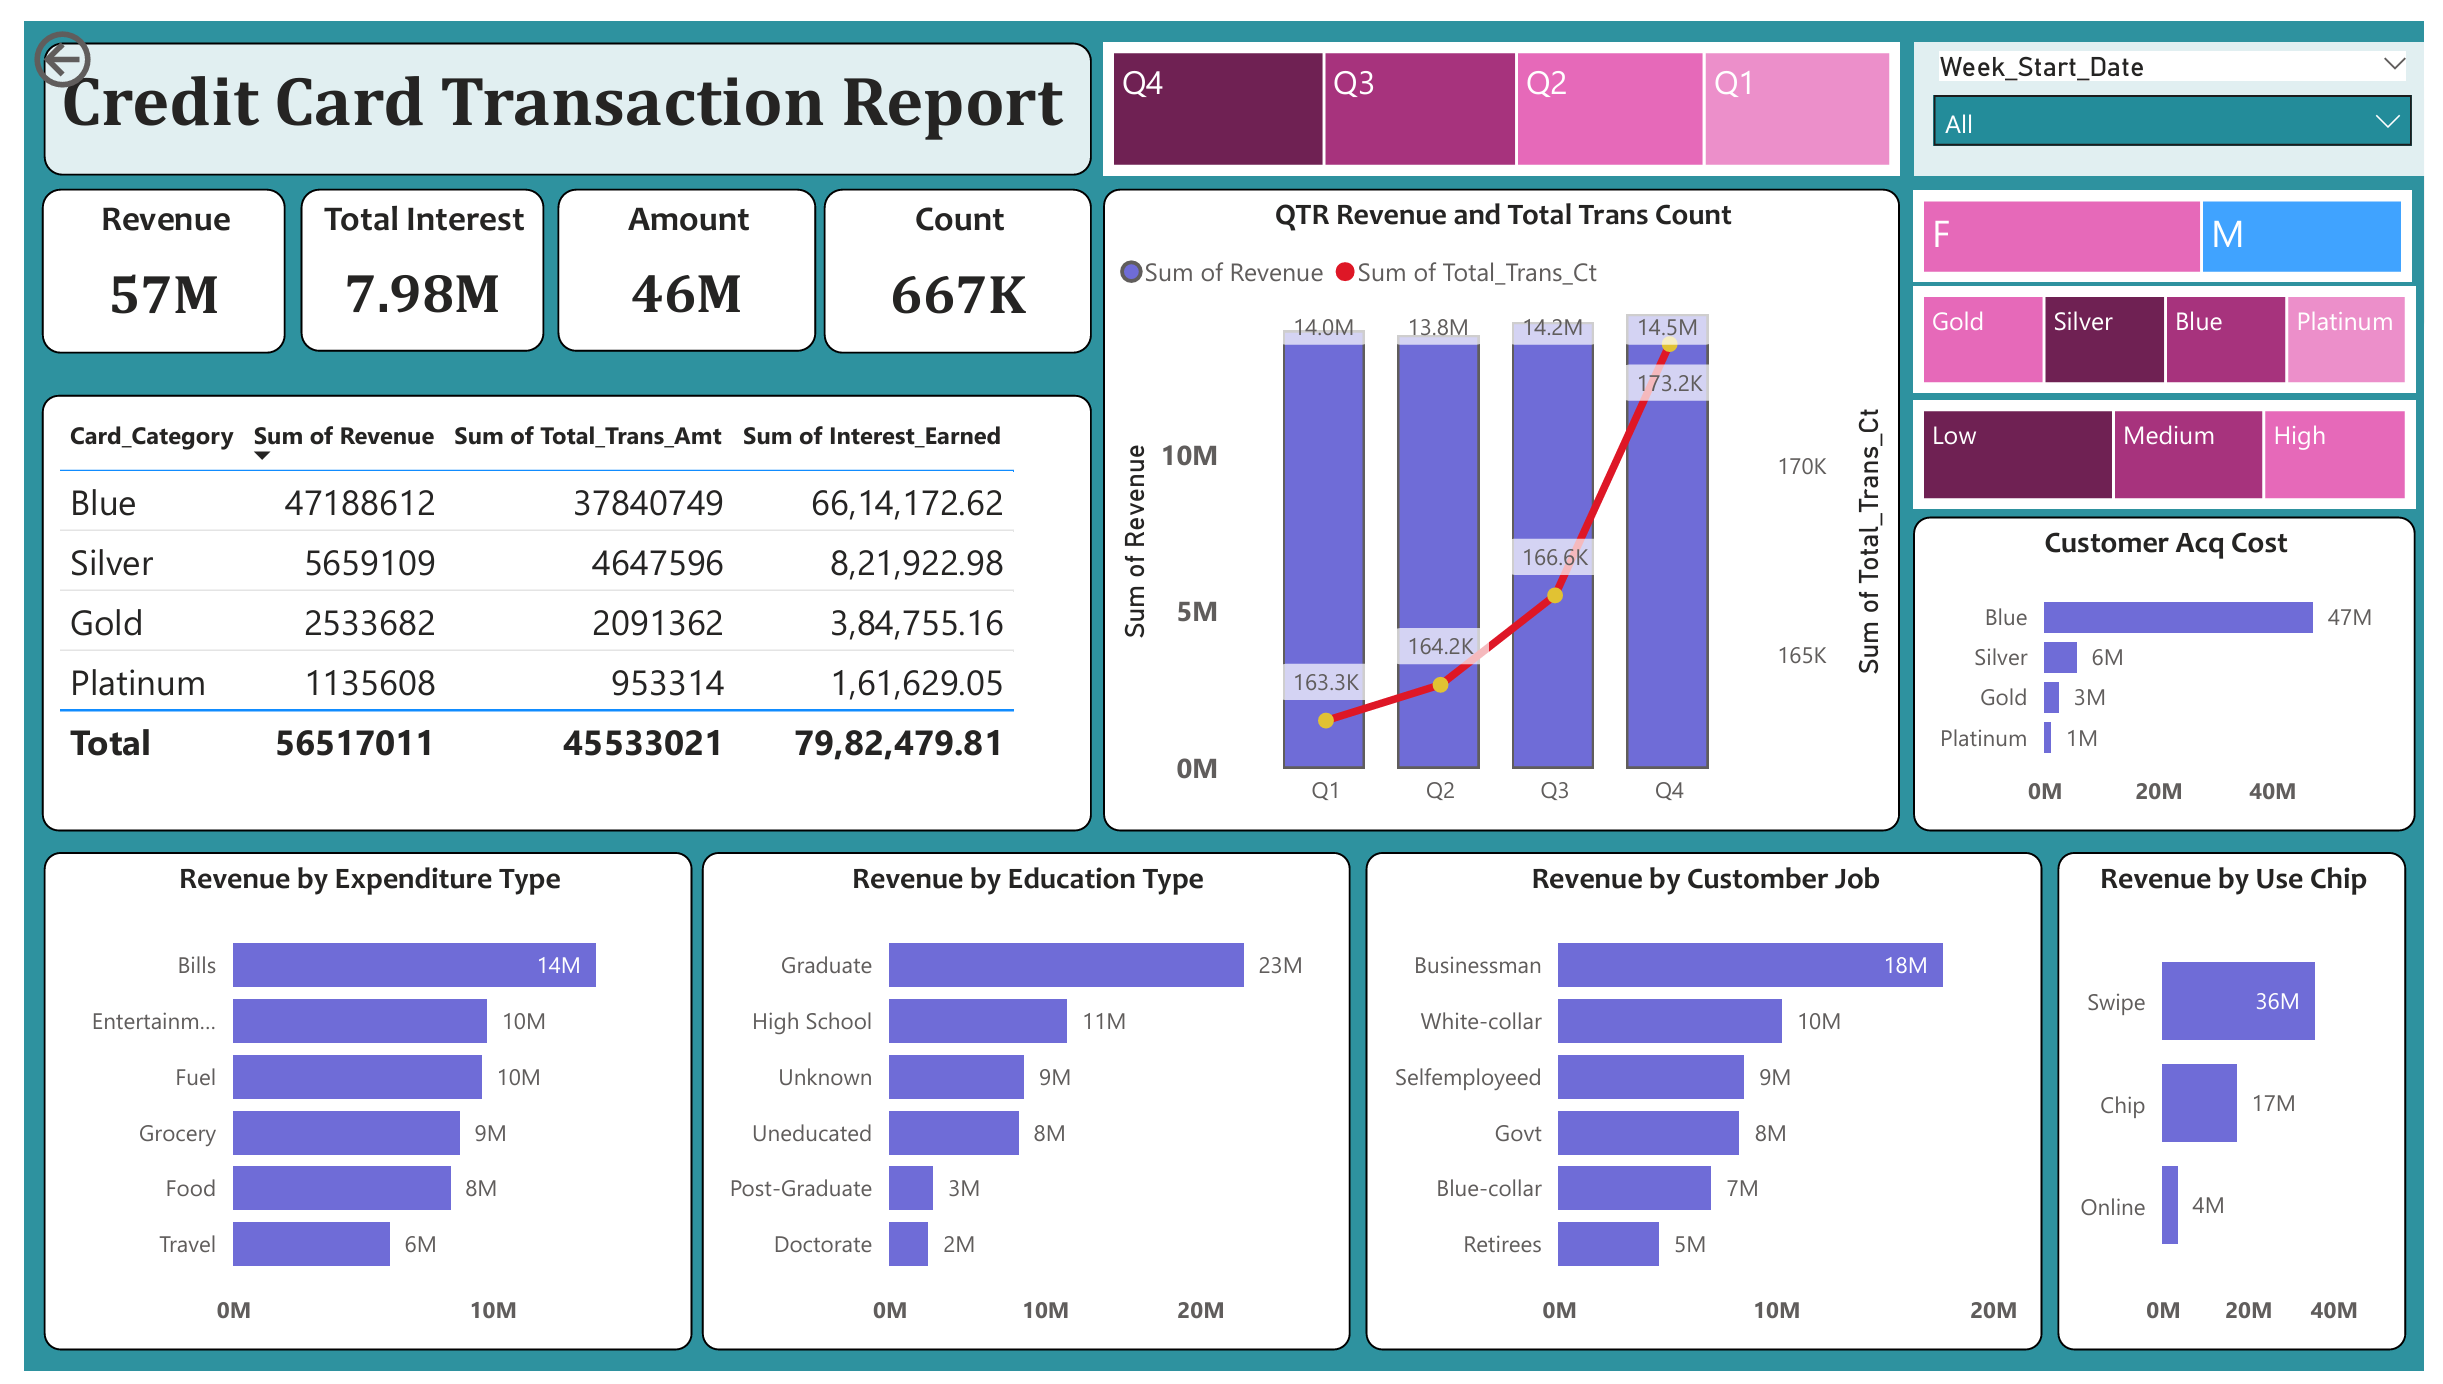

The dashboard page shown, as its layout file describes it:
{"tool":"powerbi","page":{"name":"CC Transaction ","canvas":[1280,720],"ordinal":1},"visuals":[{"type":"textbox","box":[9.5,10.9,559.8,70.7],"z":0},{"type":"lineStackedColumnComboChart","title":"QTR Revenue and Total Trans Count","fields":{"Category":["ccdb cc_detail.Qtr"],"Y":["Sum(ccdb cc_detail.Revenue)"],"Y2":["Sum(ccdb cc_detail.Total_Trans_Ct)"]},"box":[575,89.2,424.5,342.9],"z":1000},{"type":"clusteredBarChart","title":"Revenue by Expenditure Type","fields":{"Y":["Sum(ccdb cc_detail.Revenue)"],"Category":["ccdb cc_detail.Exp_Type"]},"box":[9.5,443,346.5,266.3],"z":2000},{"type":"clusteredBarChart","title":"Revenue by Education Type","fields":{"Y":["Sum(ccdb cc_detail.Revenue)"],"Category":["ccdb cust_detail.Education_Level"]},"box":[361.4,443,345.1,266.3],"z":3000},{"type":"clusteredBarChart","title":"Revenue by Customber Job","fields":{"Y":["Sum(ccdb cc_detail.Revenue)"],"Category":["ccdb cust_detail.Customer_Job"]},"box":[714.7,443,361.4,266.3],"z":4000},{"type":"tableEx","fields":{"Values":["ccdb cc_detail.Card_Category","Sum(ccdb cc_detail.Revenue)","Sum(ccdb cc_detail.Total_Trans_Amt)","Sum(ccdb cc_detail.Interest_Earned)"]},"box":[8.9,198.9,559.7,233.3],"z":5000},{"type":"card","title":"Revenue","fields":{"Values":["Sum(ccdb cc_detail.Revenue)"]},"box":[8.9,89.2,130,88],"z":6000},{"type":"card","title":"Total Interest","fields":{"Values":["Sum(ccdb cc_detail.Interest_Earned)"]},"box":[146.6,89.2,130,86.7],"z":7000},{"type":"card","title":"Amount","fields":{"Values":["Sum(ccdb cc_detail.Total_Trans_Amt)"]},"box":[284.3,89.2,137.7,86.7],"z":8000},{"type":"card","title":"Count","fields":{"Values":["Sum(ccdb cc_detail.Total_Trans_Ct)"]},"box":[425.8,89.2,142.8,88],"z":9000},{"type":"actionButton","box":[0,0,100,40],"z":10000},{"type":"clusteredBarChart","title":"Revenue by Use Chip","fields":{"Y":["Sum(ccdb cc_detail.Revenue)"],"Category":["ccdb cc_detail.Use_Chip"]},"box":[1084.3,443,186.2,266.3],"z":11000},{"type":"slicer","fields":{"Values":["ccdb cc_detail.Week_Start_Date"]},"box":[1008.2,10.9,274.5,70.7],"z":12000},{"type":"clusteredBarChart","title":"Customer Acq Cost","fields":{"Y":["Sum(ccdb cc_detail.Revenue)"],"Category":["ccdb cc_detail.Card_Category"]},"box":[1006.9,263.6,267.7,168.5],"z":13000},{"type":"treemap","fields":{"Group":["ccdb cc_detail.Qtr"],"Values":["Avg(ccdb cc_detail.Client_Num)"]},"box":[574.8,10.9,425.3,70.7],"z":14000},{"type":"treemap","fields":{"Group":["ccdb cust_detail.Gender"],"Values":["CountNonNull(ccdb cc_detail.Client_Num)"]},"box":[1006.9,89.7,266.3,48.9],"z":15000},{"type":"treemap","fields":{"Group":["ccdb cc_detail.Card_Category"],"Values":["Avg(ccdb cc_detail.Client_Num)"]},"box":[1006.9,141.3,267.7,57.1],"z":16000},{"type":"treemap","fields":{"Group":["ccdb cust_detail.IncomeGroup"],"Values":["CountNonNull(ccdb cc_detail.Client_Num)"]},"box":[1006.9,202.5,267.7,57.1],"z":17000}]}

Visuals, with their boxes in screenshot pixels (x1, y1, x2, y2), scaled from the page's 1280x720 canvas onto the 2443x1384 screenshot:
textbox: <box>18,21,1087,157</box>
"QTR Revenue and Total Trans Count" lineStackedColumnComboChart: <box>1097,171,1908,831</box>
"Revenue by Expenditure Type" clusteredBarChart: <box>18,852,679,1363</box>
"Revenue by Education Type" clusteredBarChart: <box>690,852,1348,1363</box>
"Revenue by Customber Job" clusteredBarChart: <box>1364,852,2054,1363</box>
tableEx - ccdb cc_detail.Card_Category x Sum(ccdb cc_detail.Revenue): <box>17,382,1085,831</box>
"Revenue" card: <box>17,171,265,341</box>
"Total Interest" card: <box>280,171,528,338</box>
"Amount" card: <box>543,171,805,338</box>
"Count" card: <box>813,171,1085,341</box>
actionButton: <box>0,0,191,77</box>
"Revenue by Use Chip" clusteredBarChart: <box>2069,852,2425,1363</box>
slicer - ccdb cc_detail.Week_Start_Date: <box>1924,21,2442,157</box>
"Customer Acq Cost" clusteredBarChart: <box>1922,507,2433,831</box>
treemap - ccdb cc_detail.Qtr x Avg(ccdb cc_detail.Client_Num): <box>1097,21,1909,157</box>
treemap - ccdb cust_detail.Gender x CountNonNull(ccdb cc_detail.Client_Num): <box>1922,172,2430,266</box>
treemap - ccdb cc_detail.Card_Category x Avg(ccdb cc_detail.Client_Num): <box>1922,272,2433,381</box>
treemap - ccdb cust_detail.IncomeGroup x CountNonNull(ccdb cc_detail.Client_Num): <box>1922,389,2433,499</box>
